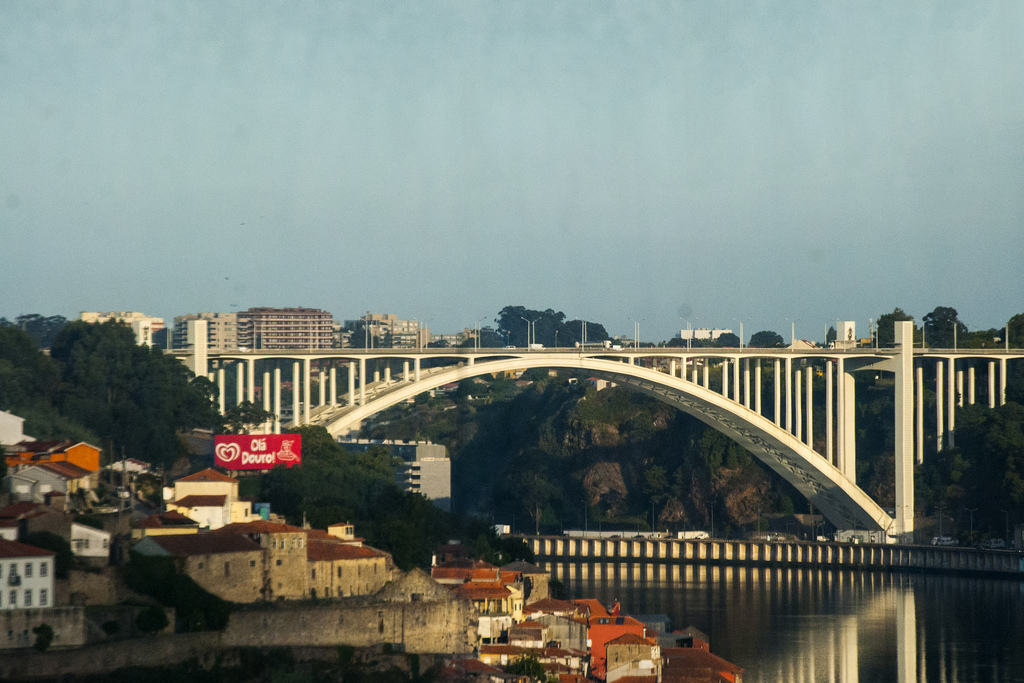arrabida: (152, 317, 1023, 549)
